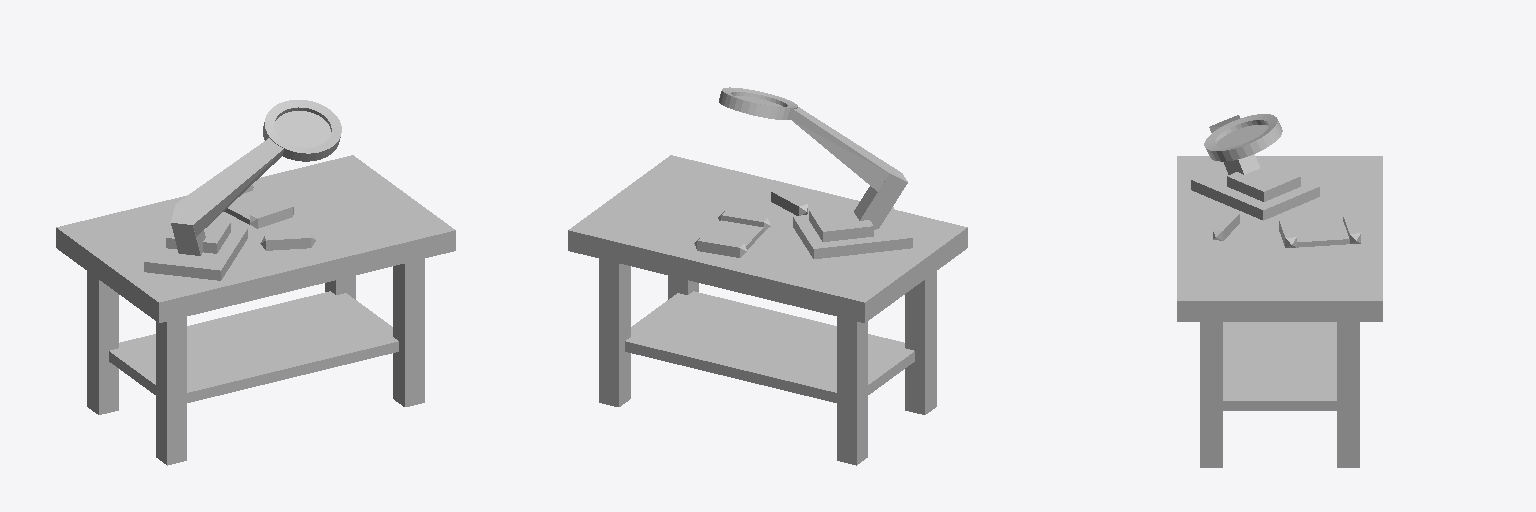
The model's file is translation_table_scrolls.obj.
3 renders of one model, left to right at view 1: azimuth 30°, elevation 25°; view 2: azimuth 150°, elevation 25°; view 3: azimuth 270°, elevation 25°, orthographic.
Parts seen in each view (by area): view 1: Circle_Circle.003; view 2: Circle_Circle.003; view 3: Circle_Circle.003.
Part boxes in pixels (left/top/right/bottom): Circle_Circle.003: left=56, top=100, right=455, bottom=465; Circle_Circle.003: left=568, top=87, right=967, bottom=465; Circle_Circle.003: left=1177, top=114, right=1382, bottom=467.
Bounding box in the file's own units: 1 × 0.9634 × 0.603.